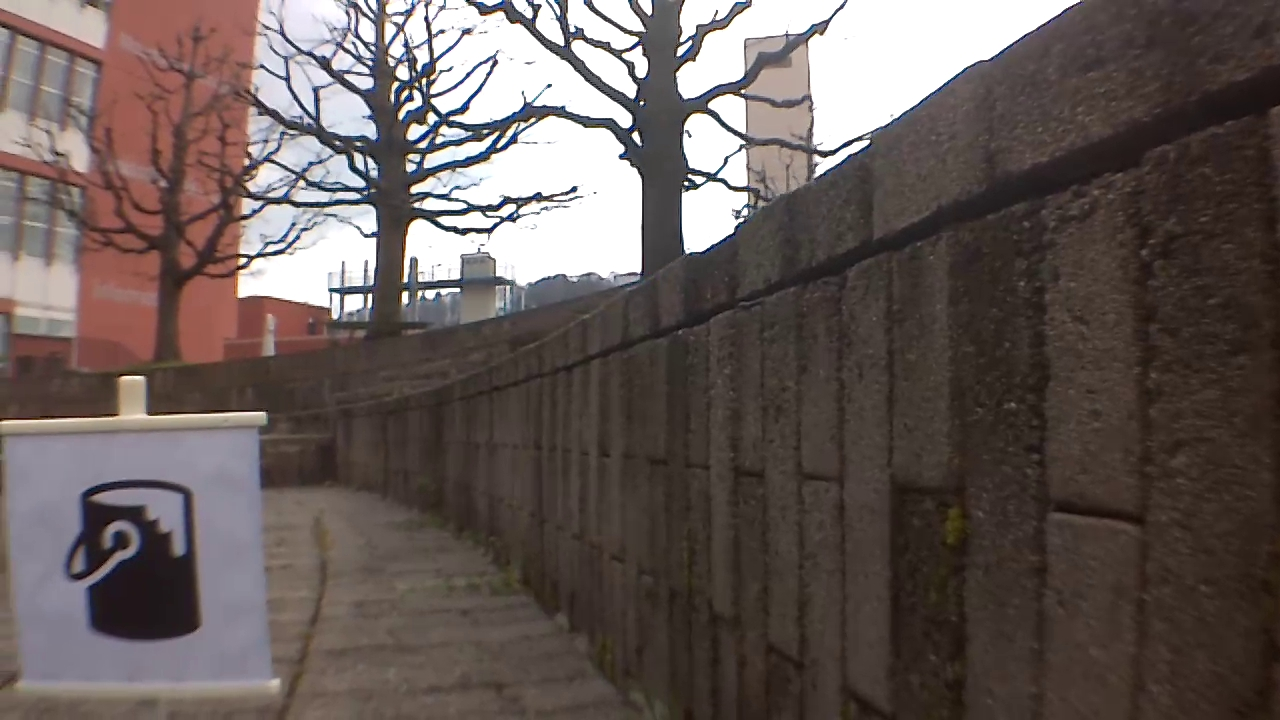bucket: (61, 468, 205, 647)
